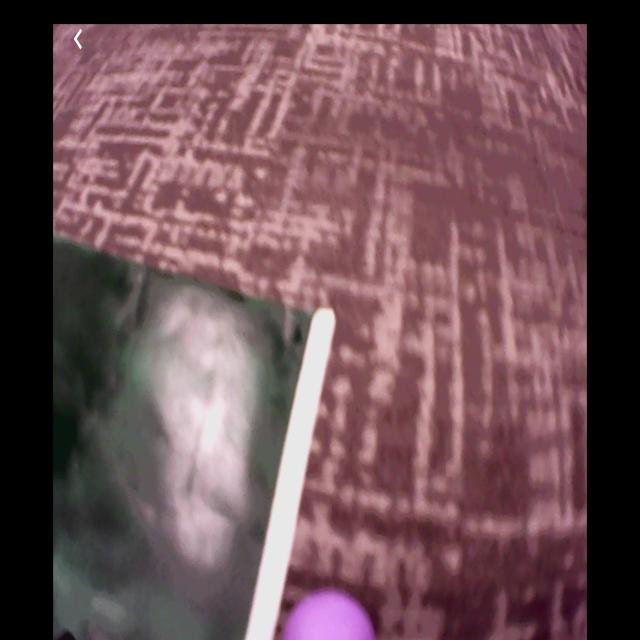ball: (282, 588, 376, 640)
